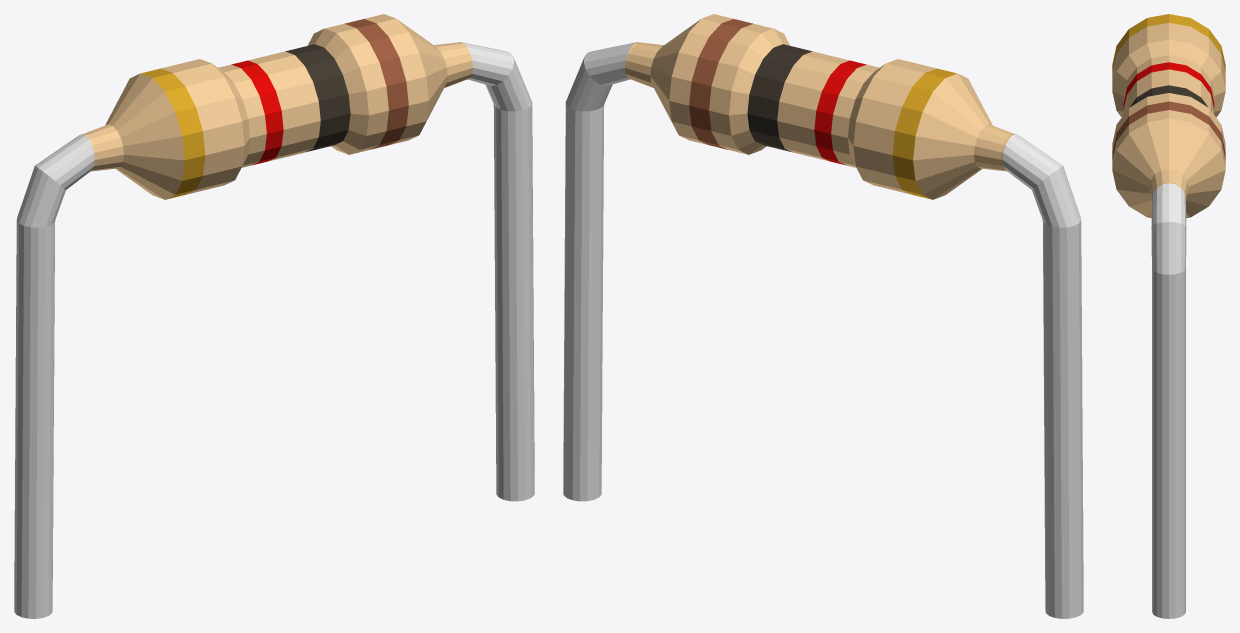
File: 1k_ohm_resistor.glb
The picture shows the model from 3 angles, left to right: view 1: azimuth 30°, elevation 25°; view 2: azimuth 150°, elevation 25°; view 3: azimuth 270°, elevation 25°; orthographic projection. The views are drawn at different scales.
Parts seen in each view (by area): view 1: Resistor.000; view 2: Resistor.000; view 3: Resistor.000.
Boxes of the visible parts, x1,y1,x2,y2 form: Resistor.000: [14, 14, 534, 618]; Resistor.000: [563, 14, 1083, 618]; Resistor.000: [1112, 14, 1225, 618].
Size of the model in its own units: 2.76 by 2.58 by 0.6.
